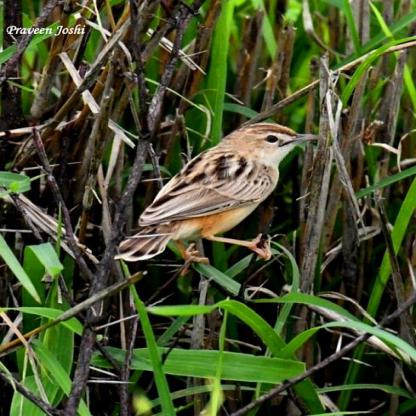Burung: (113, 121, 326, 278)
